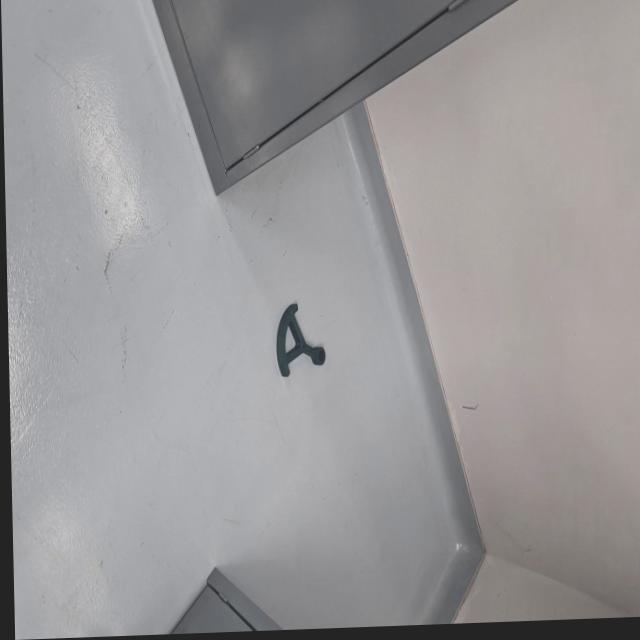haptic: (274, 301, 326, 379)
